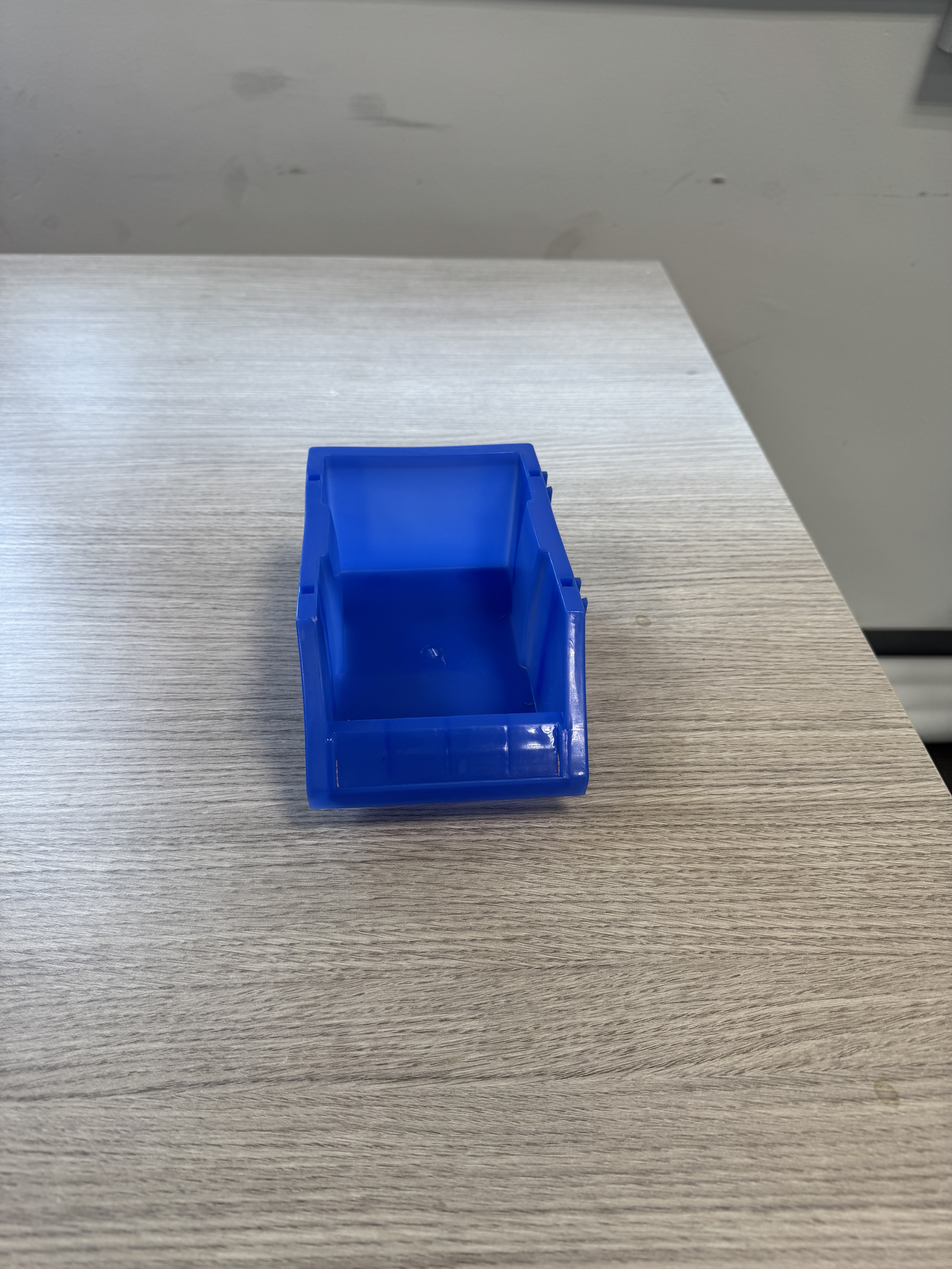Bin Boundary: (313, 455, 569, 725)
